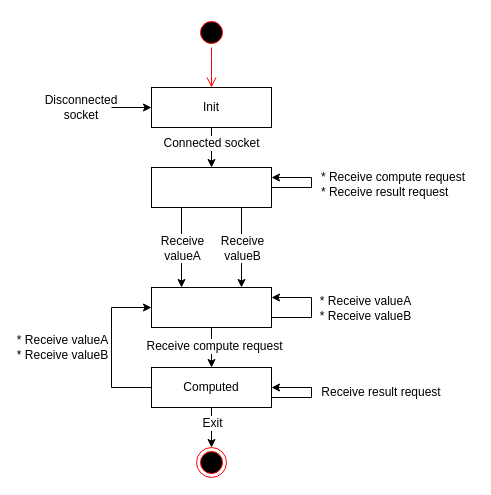
This 491x495 diagram has some shape labels left out. The centre of each missing label's shape, as x and y in pixels:
"Connected" goes at pixel 211 187.
"Ready" goes at pixel 211 307.
